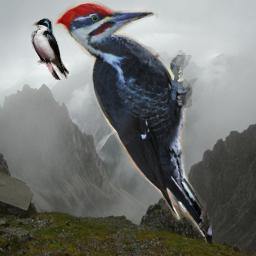Swallow: (31, 18, 69, 80)
Woodpecker: (54, 1, 212, 244)
